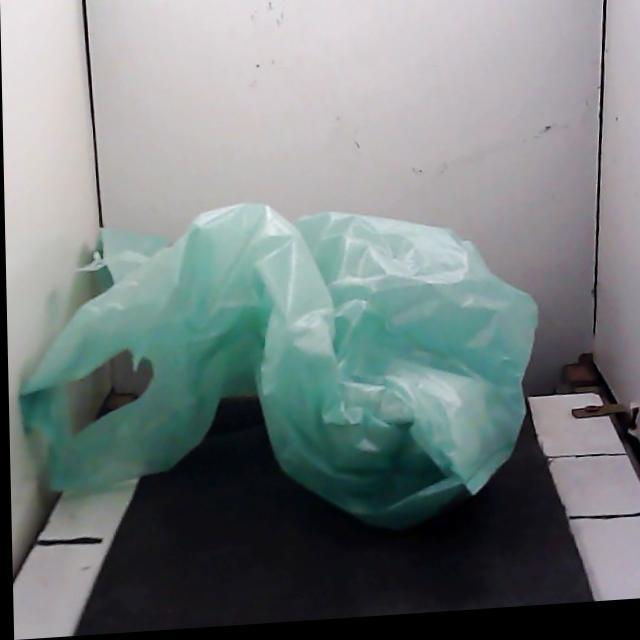plastico: (22, 205, 537, 528)
